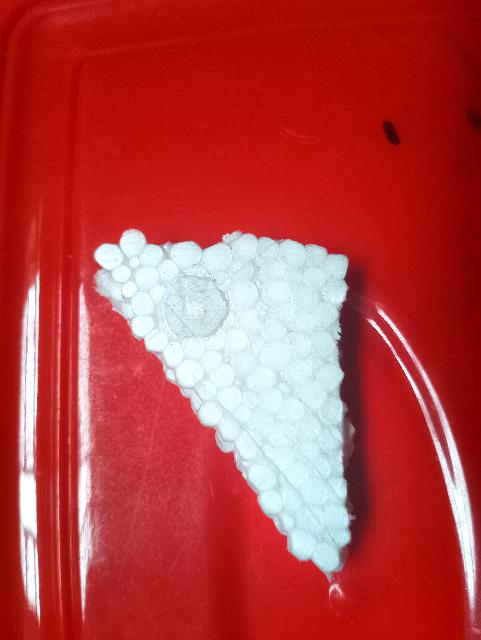cocksheet: (126, 234, 390, 583)
